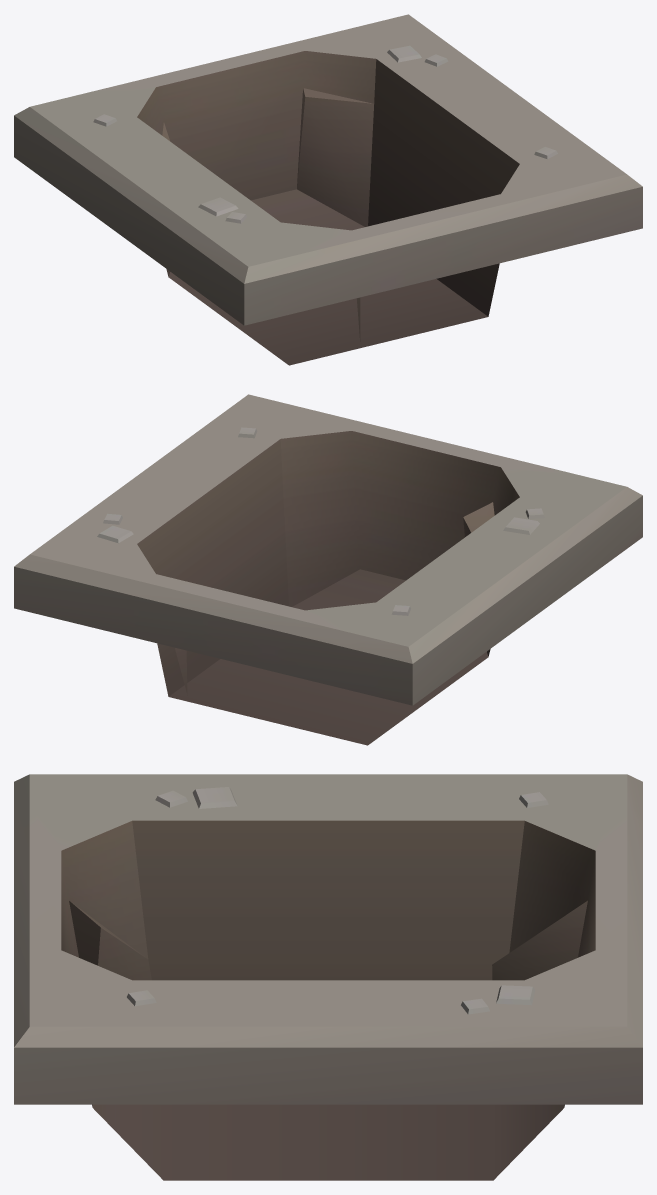
Rendered from floor_dirt_grave.glb.
The picture shows the model from 3 angles, top to bottom: view 1: azimuth 30°, elevation 25°; view 2: azimuth 150°, elevation 25°; view 3: azimuth 270°, elevation 25°; orthographic projection. The views are drawn at different scales.
Parts seen in each view (by area): view 1: floor_dirt_grave; view 2: floor_dirt_grave; view 3: floor_dirt_grave.
Part boxes in pixels (box(x1,y1,x2,y2)): floor_dirt_grave: box(14, 14, 642, 365); floor_dirt_grave: box(14, 394, 642, 745); floor_dirt_grave: box(14, 774, 642, 1180).
Size of the model in its own units: 4 by 1.53 by 4.
Materials: 1 (1 with a texture image).
